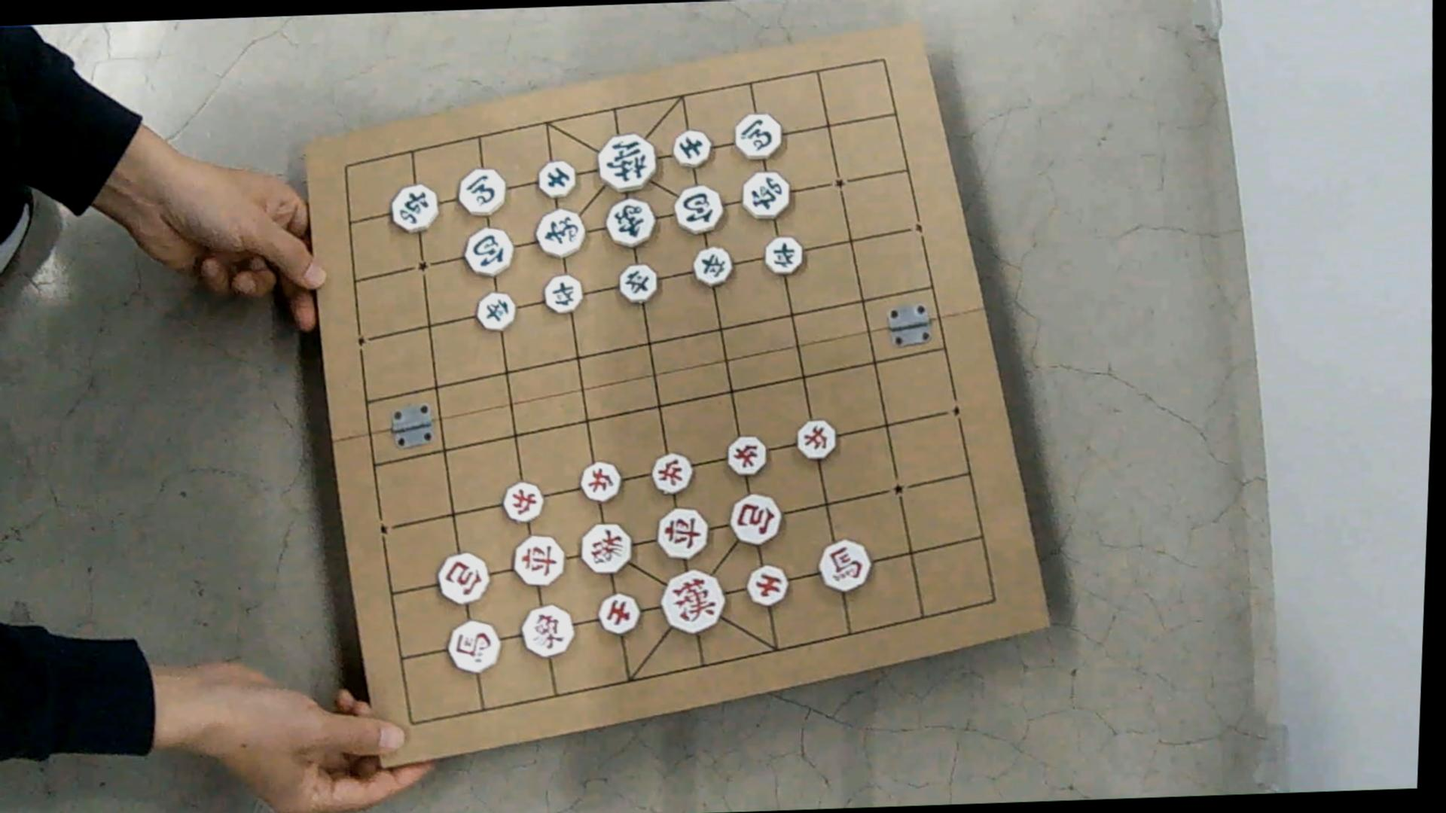cha_green: (740, 170, 792, 219), (390, 183, 440, 232)
cha_red: (512, 534, 566, 585), (656, 506, 708, 558)
jol_green: (541, 273, 581, 313), (692, 245, 732, 285), (764, 235, 804, 275), (474, 291, 515, 329), (618, 263, 657, 302)
jol_red: (578, 460, 621, 502), (650, 452, 692, 493), (502, 481, 544, 522), (725, 434, 767, 475), (795, 418, 837, 458)
ma_green: (456, 167, 507, 215), (733, 111, 783, 159)
ma_red: (447, 619, 502, 672), (817, 538, 871, 591)
po_green: (673, 184, 724, 233), (462, 227, 513, 276)
po_red: (728, 492, 782, 544), (436, 551, 489, 602)
sa_green: (536, 159, 578, 197), (671, 128, 712, 166)
sa_red: (745, 563, 789, 605), (596, 592, 639, 634)
sang_green: (604, 196, 655, 246), (535, 208, 587, 257)
sang_red: (520, 604, 574, 656), (579, 522, 633, 573)
wang_green: (595, 132, 659, 191)
wang_red: (659, 568, 726, 632)
